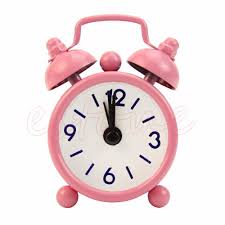alarm_clock: (44, 10, 180, 207)
